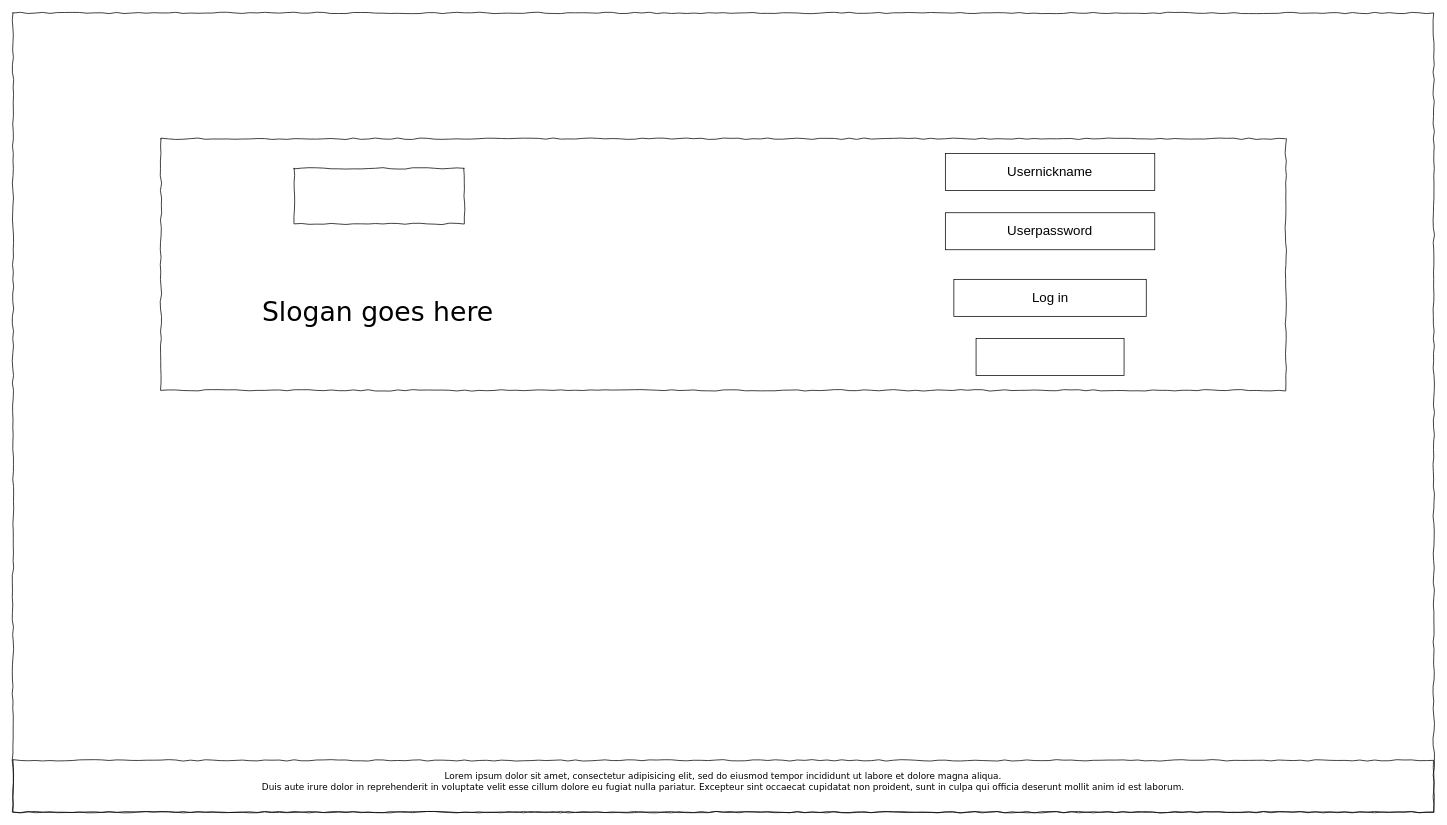
This 1447x825 diagram has some shape labels left out. Each missing label, with the centre of its shape:
Create account: [1049,357]
LOGO: [378,196]
